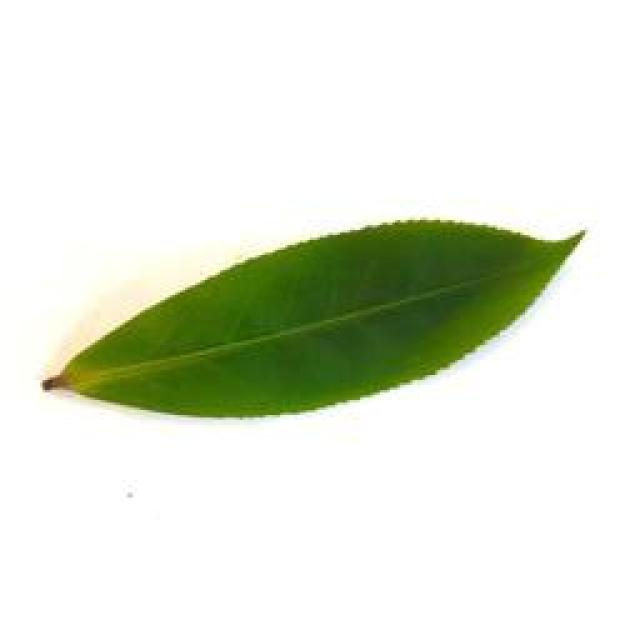Healthy: (33, 205, 618, 440)
